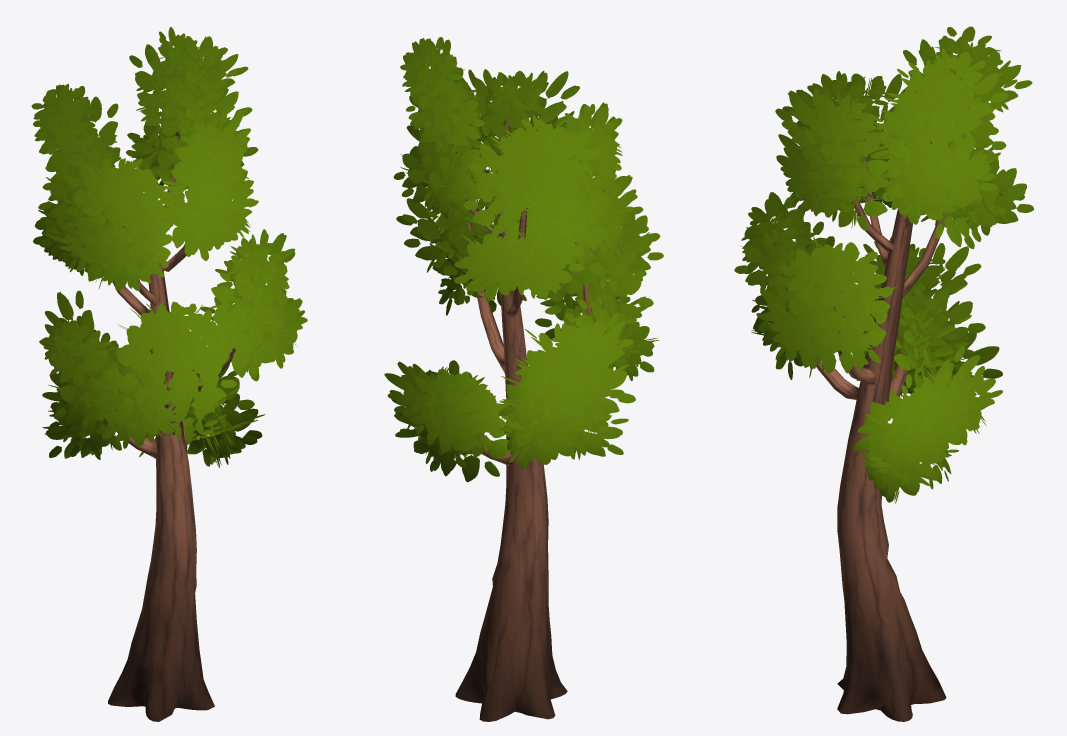
Rendered from broadleaf-oval.mid.quaternius.glb.
3 renders of one model, left to right at view 1: azimuth 30°, elevation 25°; view 2: azimuth 150°, elevation 25°; view 3: azimuth 270°, elevation 25°, orthographic. The views are drawn at different scales.
Visible parts, largest first — view 1: CommonTree_3; view 2: CommonTree_3; view 3: CommonTree_3.
Part boxes in pixels (x1,y1,x2,y2): CommonTree_3: (31, 27, 307, 721); CommonTree_3: (384, 37, 663, 721); CommonTree_3: (734, 26, 1033, 721).
Bounding box in the file's own units: 5.6 × 13 × 5.77.
2 materials, 2 textured.
